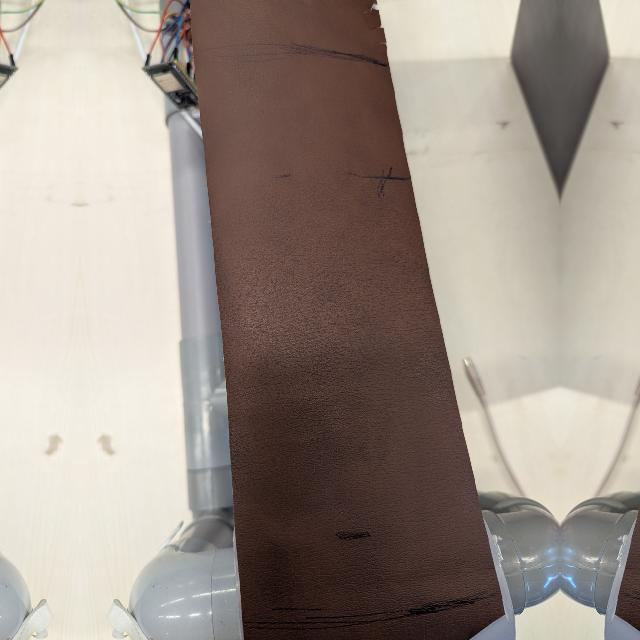belt_tear: (465, 609, 513, 640), (607, 609, 640, 640)
edge_damage: (367, 0, 394, 67)
